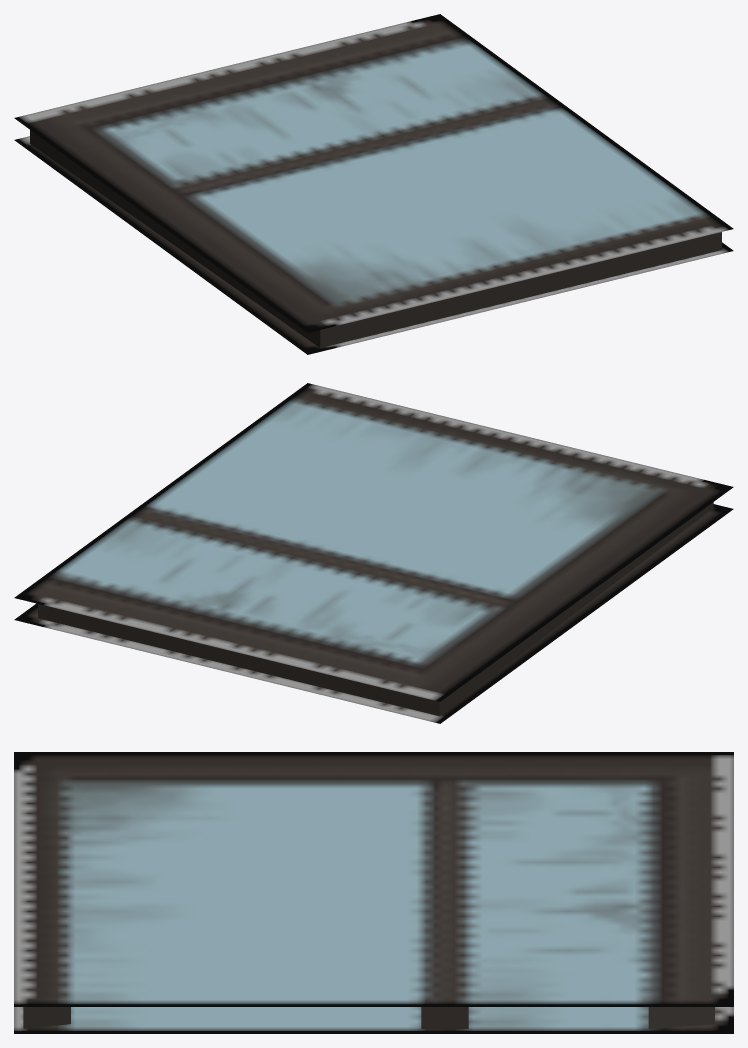
The model's file is pz_native_fixtures_windows_01_50_frame.obj.
3 renders of one model, top to bottom at view 1: azimuth 30°, elevation 25°; view 2: azimuth 150°, elevation 25°; view 3: azimuth 270°, elevation 25°, orthographic. The views are drawn at different scales.
Parts seen in each view (by area): view 1: pz_native_fixtures_windows_01_50_frame; view 2: pz_native_fixtures_windows_01_50_frame; view 3: pz_native_fixtures_windows_01_50_frame.
Boxes of the visible parts, x1,y1,x2,y2 form: pz_native_fixtures_windows_01_50_frame: [14, 14, 733, 354]; pz_native_fixtures_windows_01_50_frame: [14, 383, 733, 723]; pz_native_fixtures_windows_01_50_frame: [14, 752, 733, 1033].
Size of the model in its own units: 0.8125 by 0.04 by 0.9696.
1 material, 1 textured.
